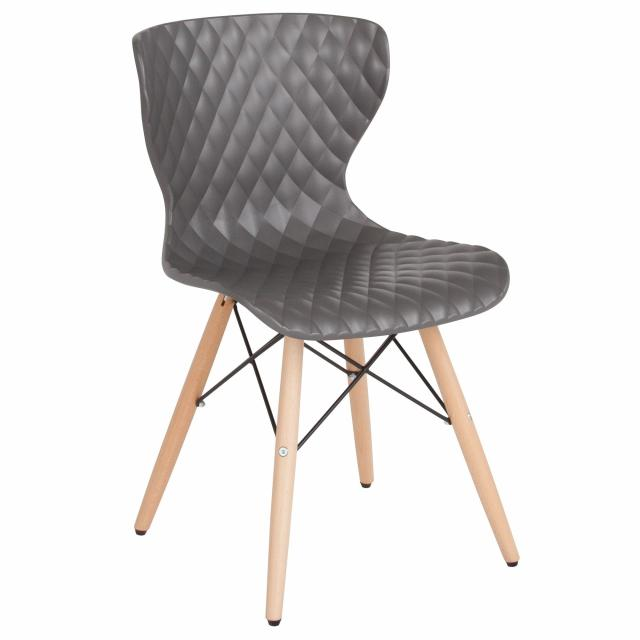Chair: (126, 6, 526, 630)
